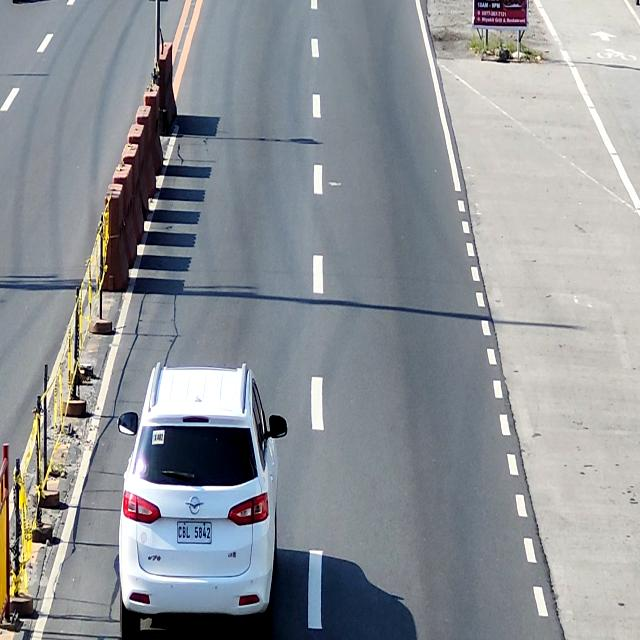Car: (117, 361, 288, 640)
License-Plate: (176, 520, 212, 544)
